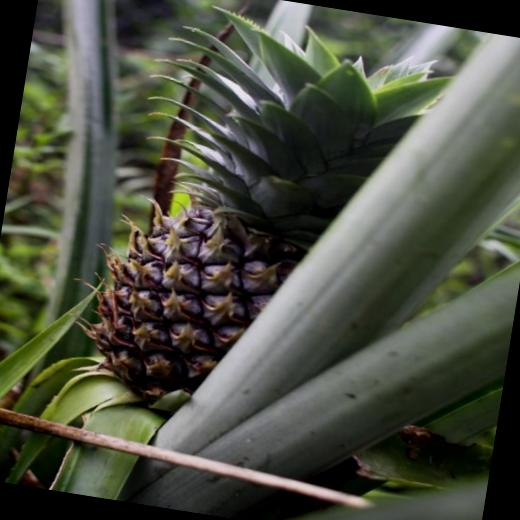Mango: (52, 0, 461, 443)
